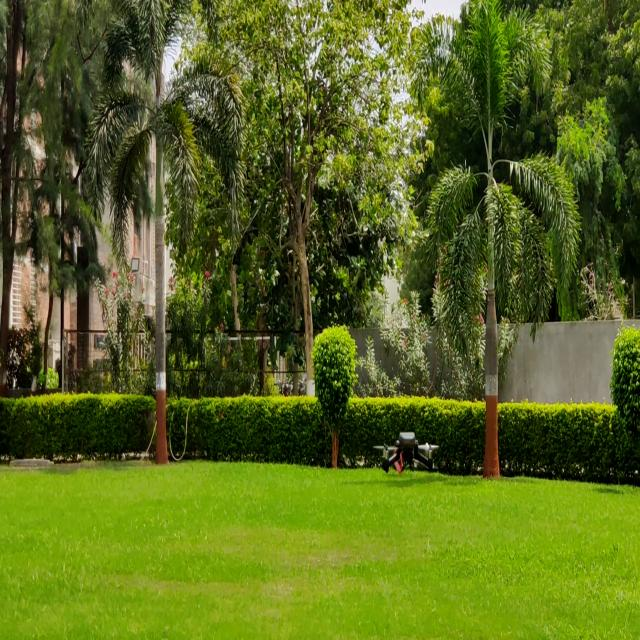drone: (367, 431, 446, 474)
